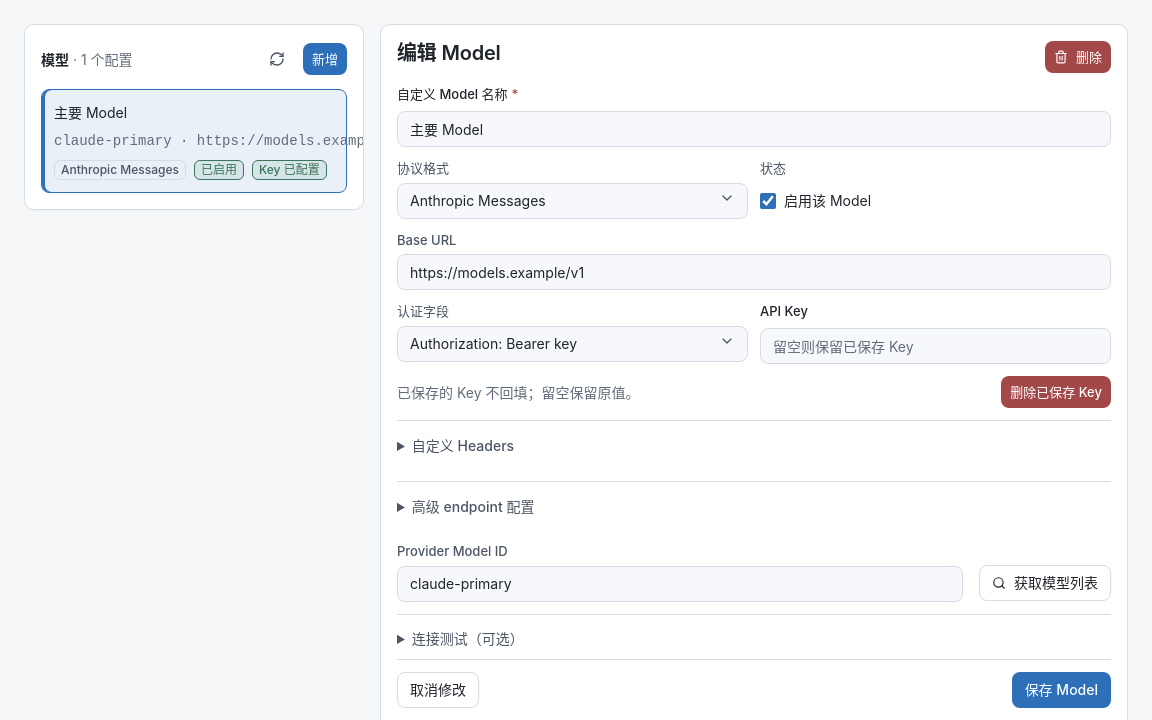
TenantModelsPage › confirms API Key deletion, preserves the revision and clears plaintext input
This screenshot has width=1152, height=720.
Type "temporary-plaintext-key" into the password field labelled "API Key" at (936, 346), box [760, 328, 1111, 364]
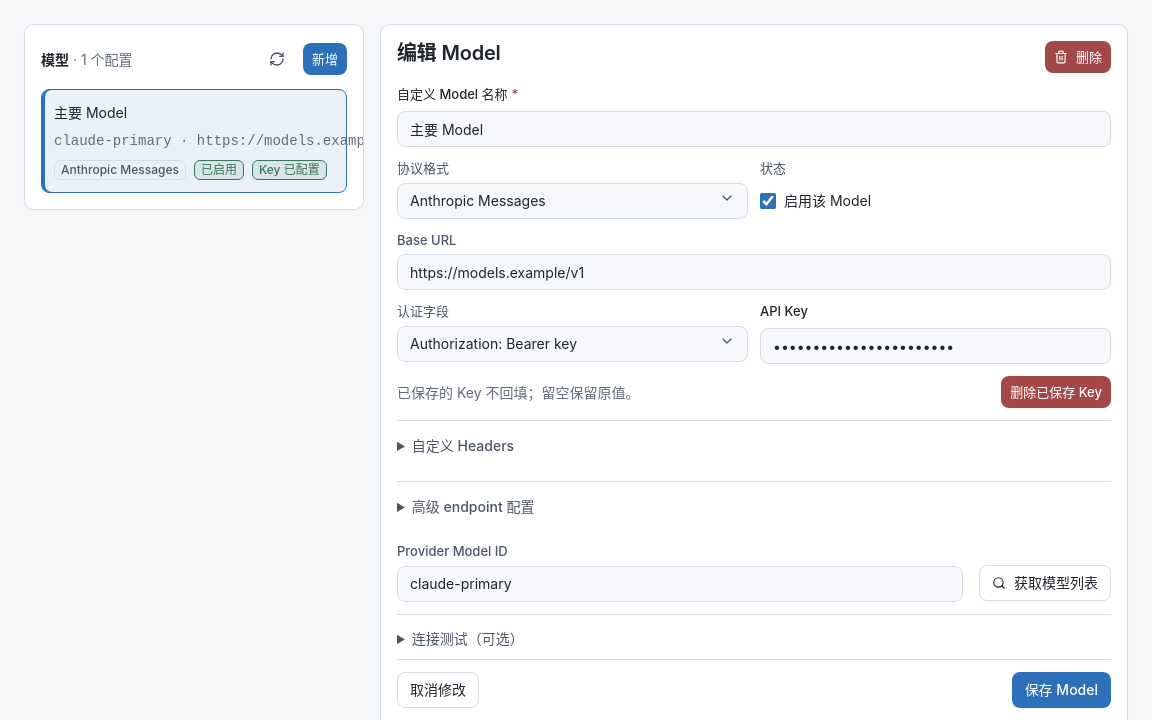
Click the button "删除已保存 Key" at (1056, 392), box [1001, 376, 1111, 408]
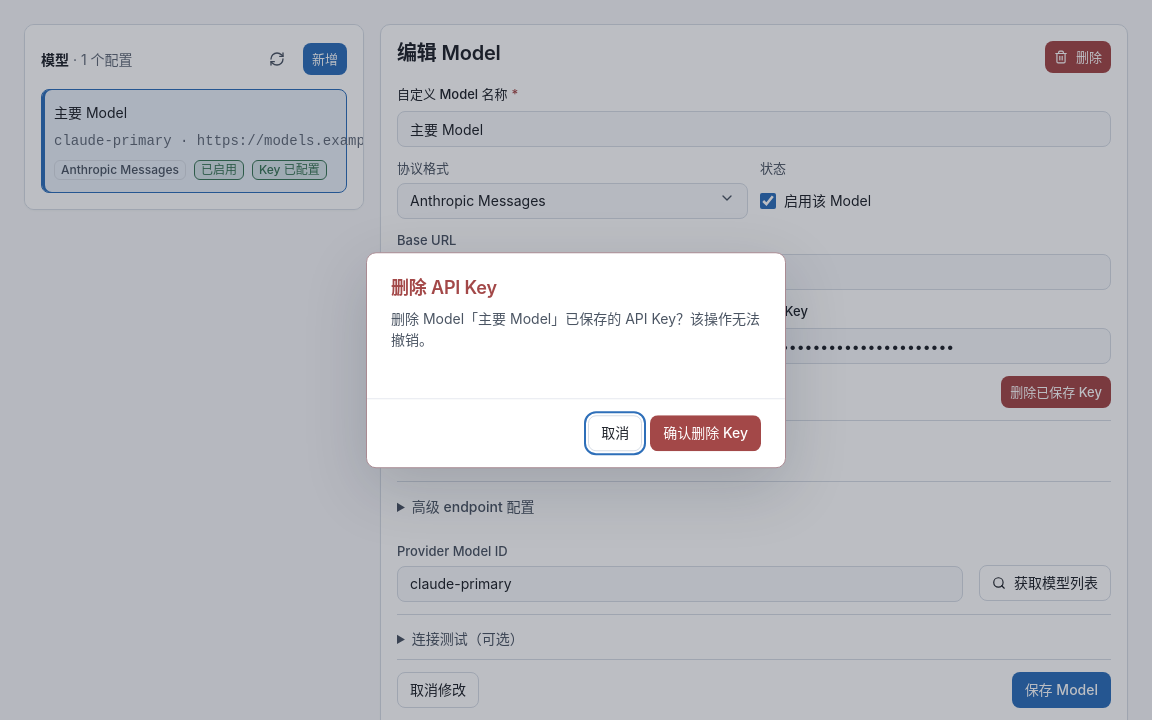
Click the button "确认删除 Key" at (706, 433), box [650, 415, 761, 451]
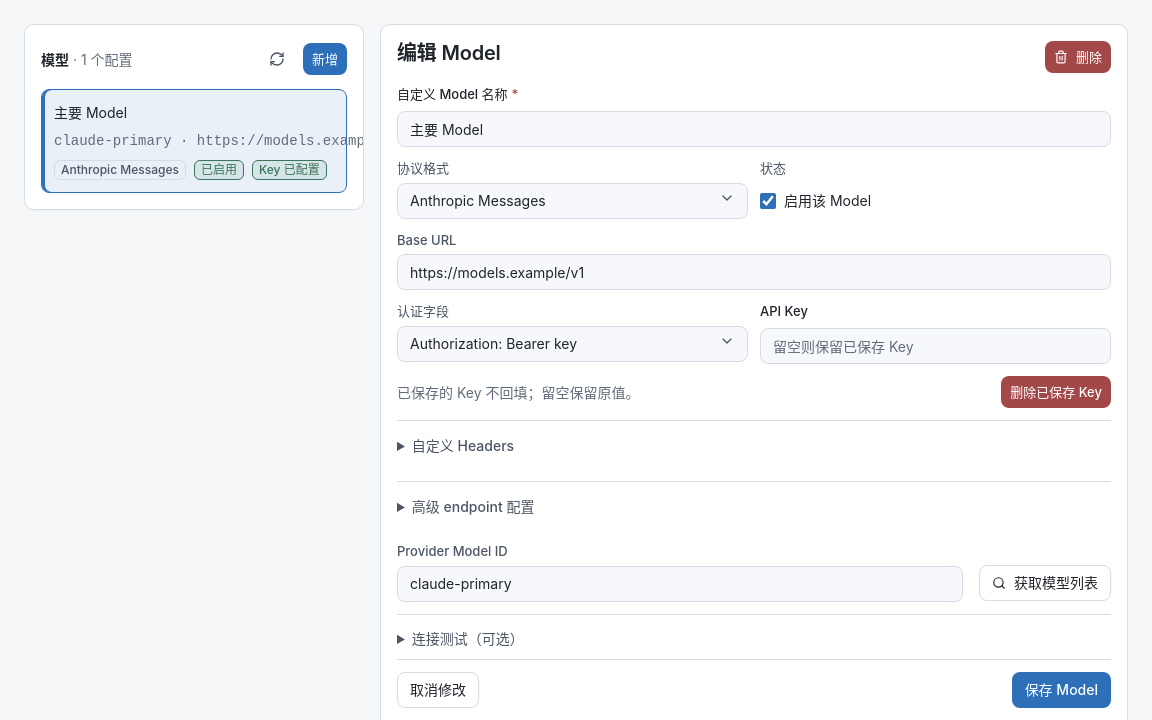
Now the password field labelled "API Key" is empty, box [760, 328, 1111, 364]
Now the dialog is gone
